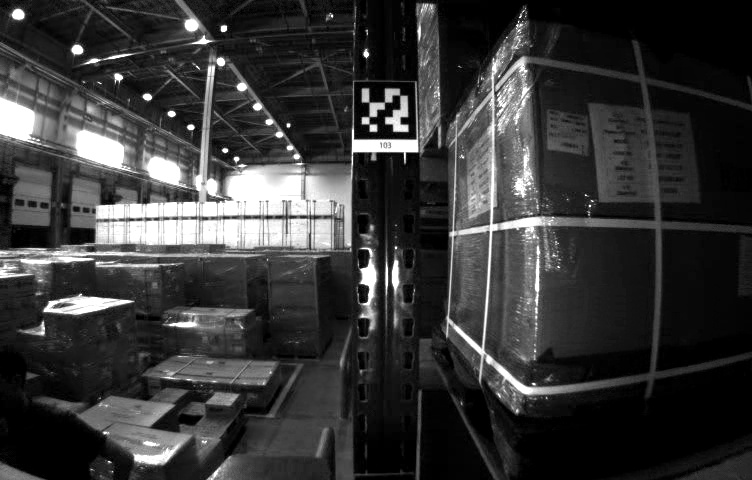True Barcode: (547, 112, 589, 155)
